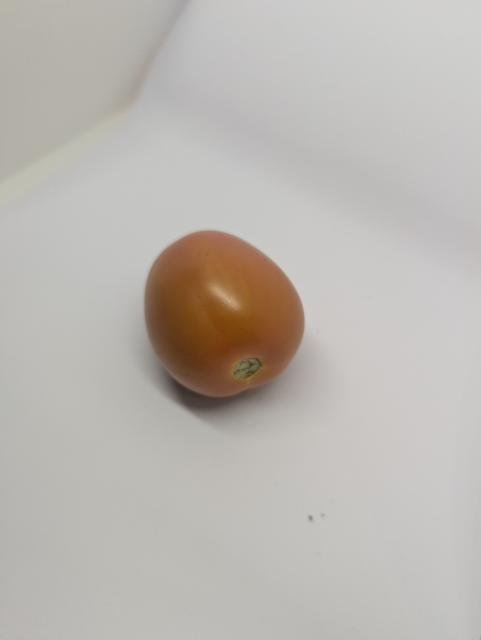turning: (137, 224, 311, 407)
